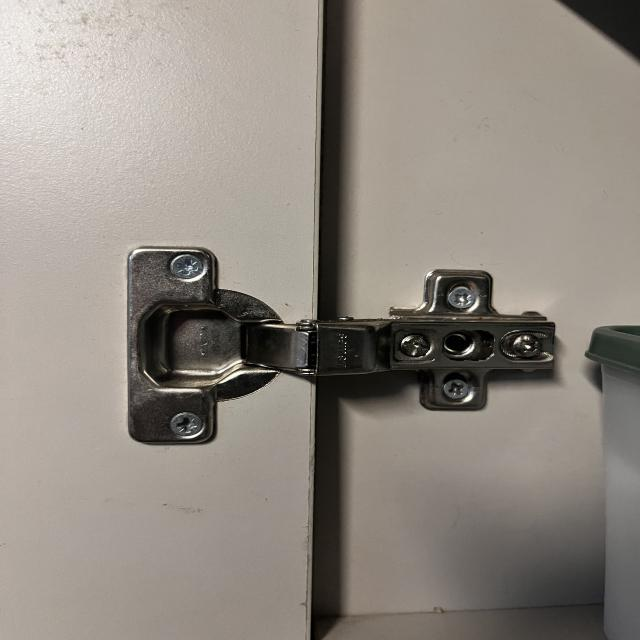pozidriv: (170, 253, 203, 280), (170, 412, 202, 436), (448, 288, 476, 308), (444, 379, 468, 399)
